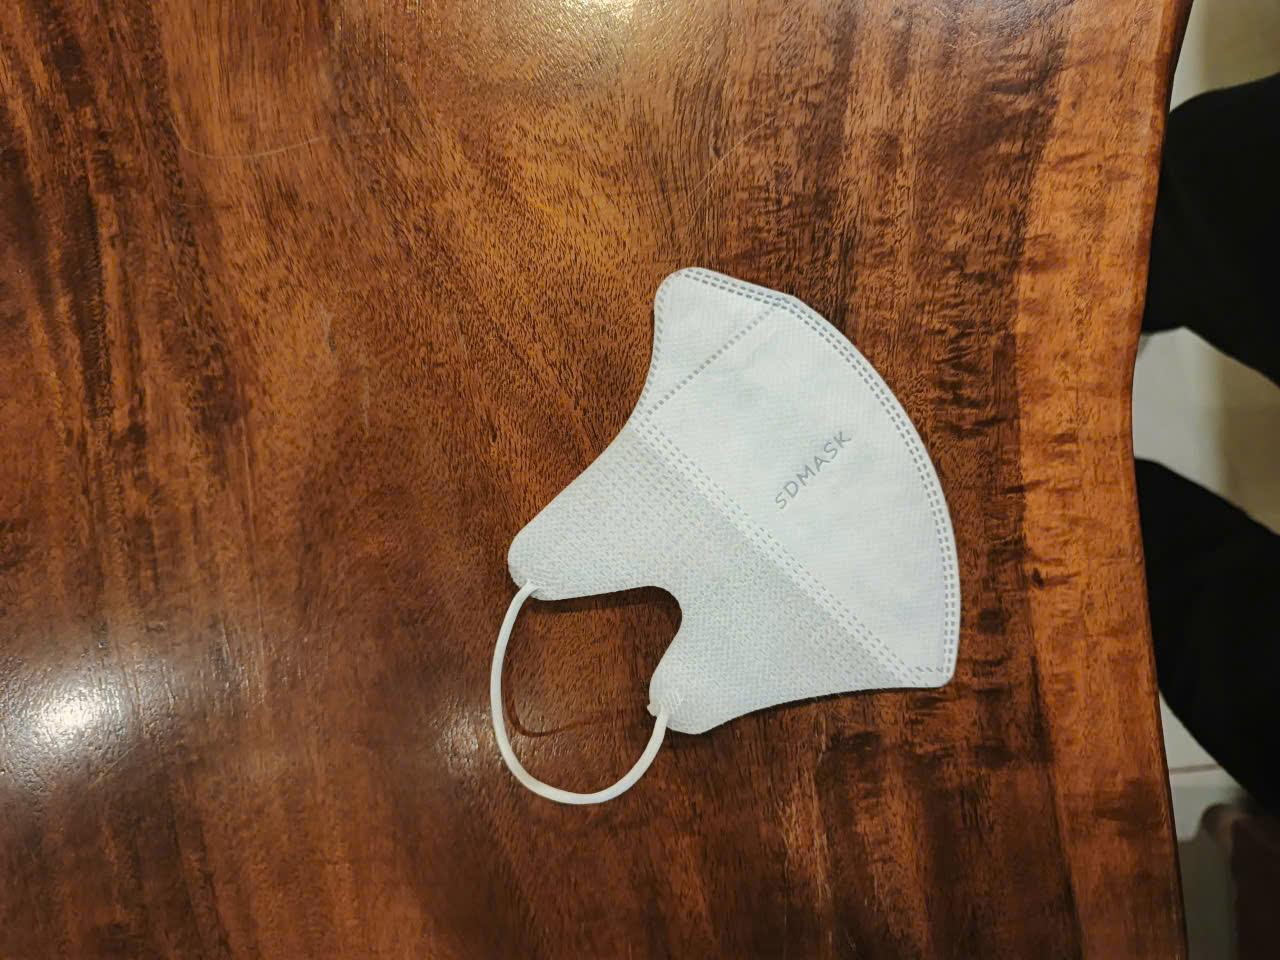Con lai: (488, 268, 958, 807)
